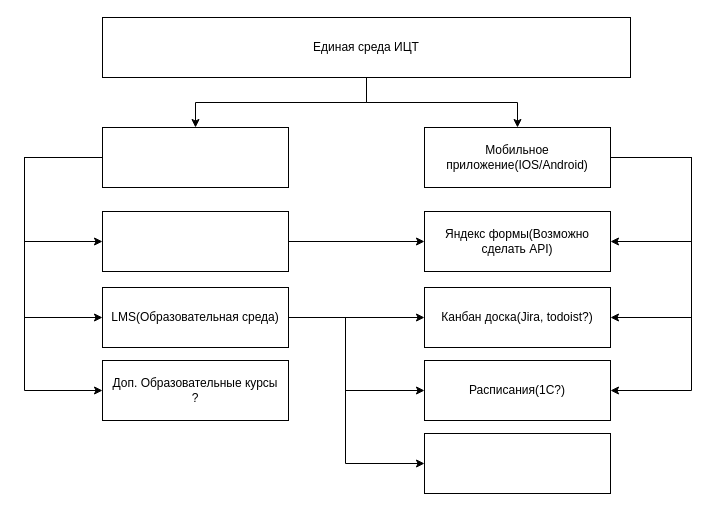
The diagram is 717 pixels wide and 511 high, and some of its shapes have lost their labels. Each missing label, with the box of its shape:
Moodle: (424, 432, 610, 494)
Сайт института/Лэндинг (Tilda на данный момент): (102, 126, 288, 188)
СТУД Офис: (102, 210, 288, 272)
